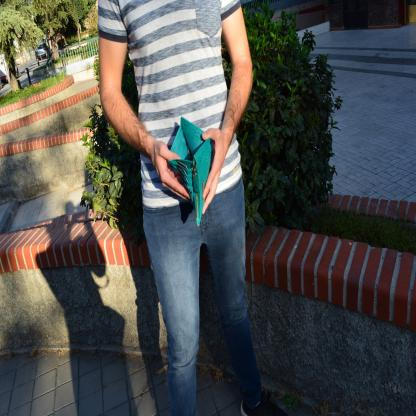monedero: (167, 115, 214, 226)
